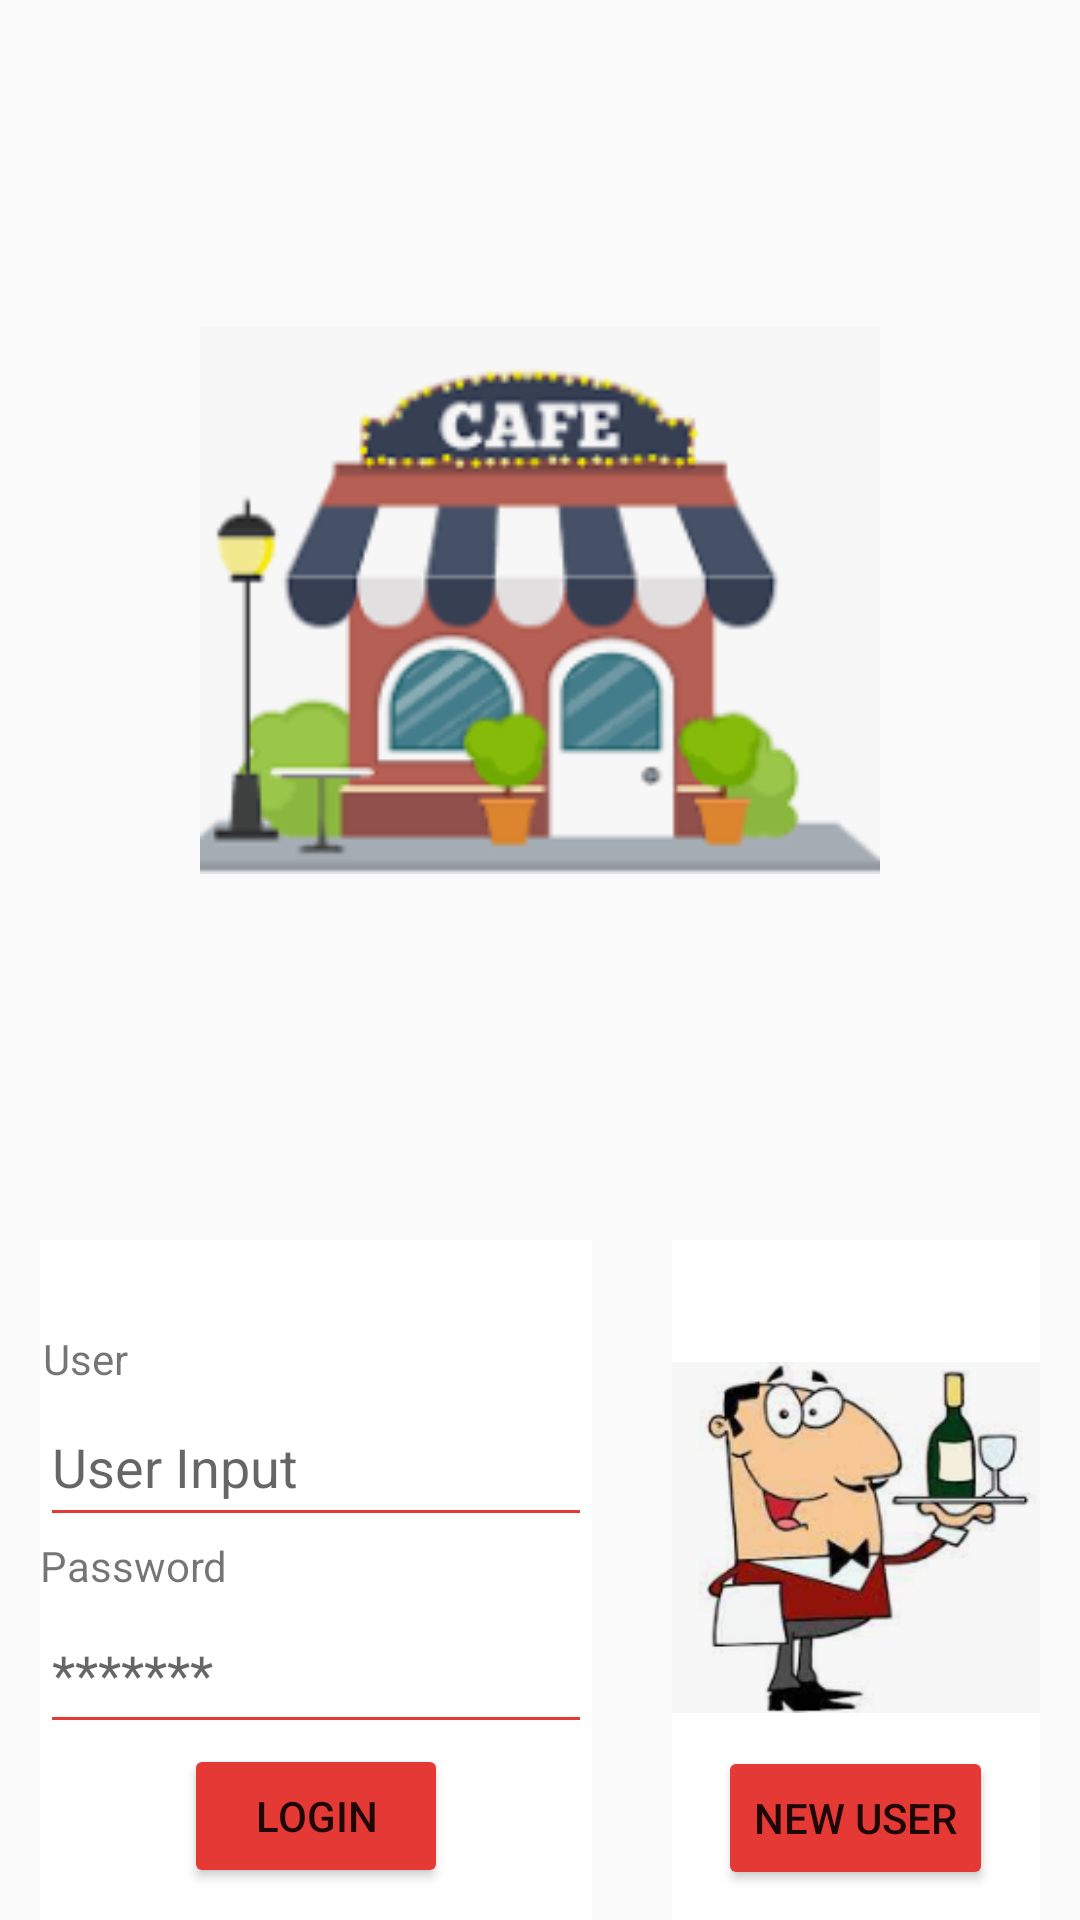

Named icons in this screenshot (1080×1920) and their centers, (x,y):
mesero: (865,1539)
